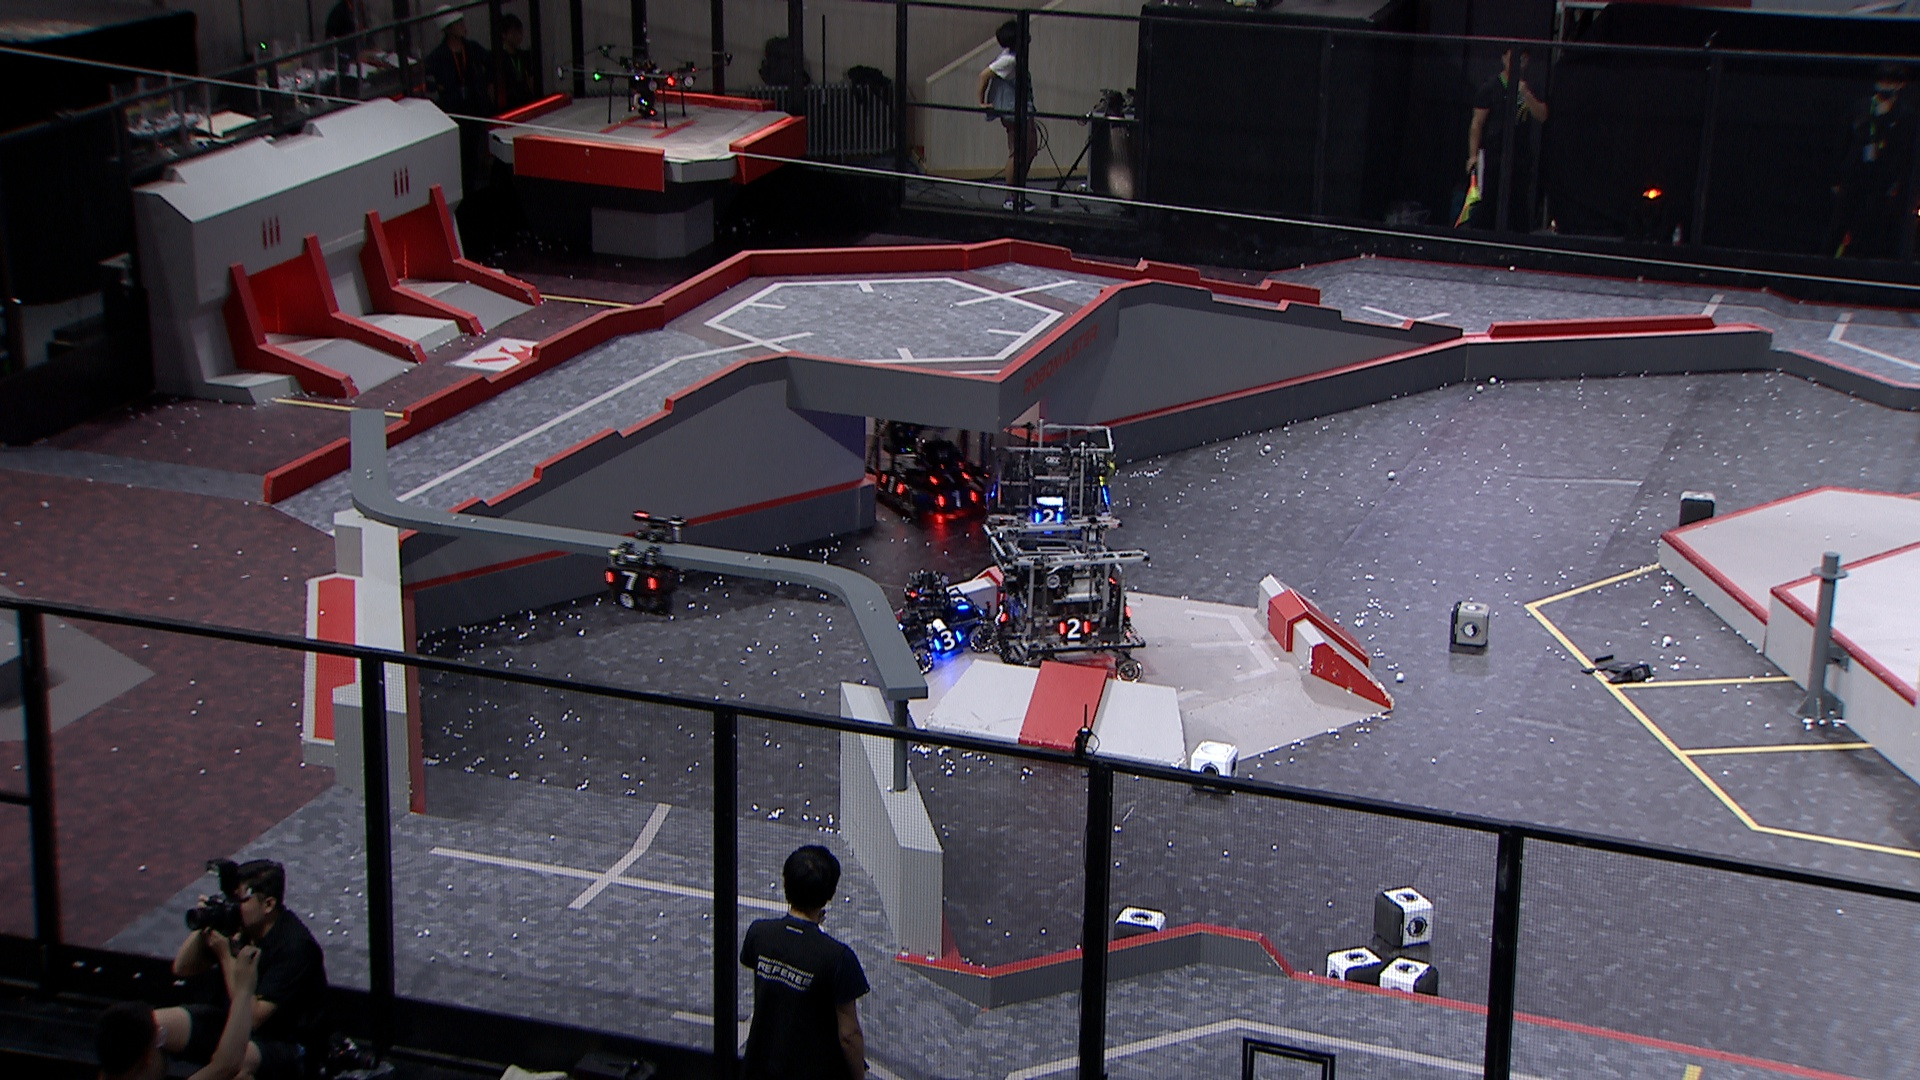armor: (599, 568, 657, 595), (936, 488, 978, 510), (1054, 616, 1091, 641), (930, 626, 965, 651), (927, 469, 972, 488), (877, 472, 906, 496), (1031, 508, 1063, 526), (993, 600, 1011, 628), (945, 593, 972, 612)
car: (978, 516, 1145, 680), (868, 389, 1002, 527), (982, 419, 1117, 553), (878, 570, 997, 675)
watcher: (597, 508, 683, 618)
